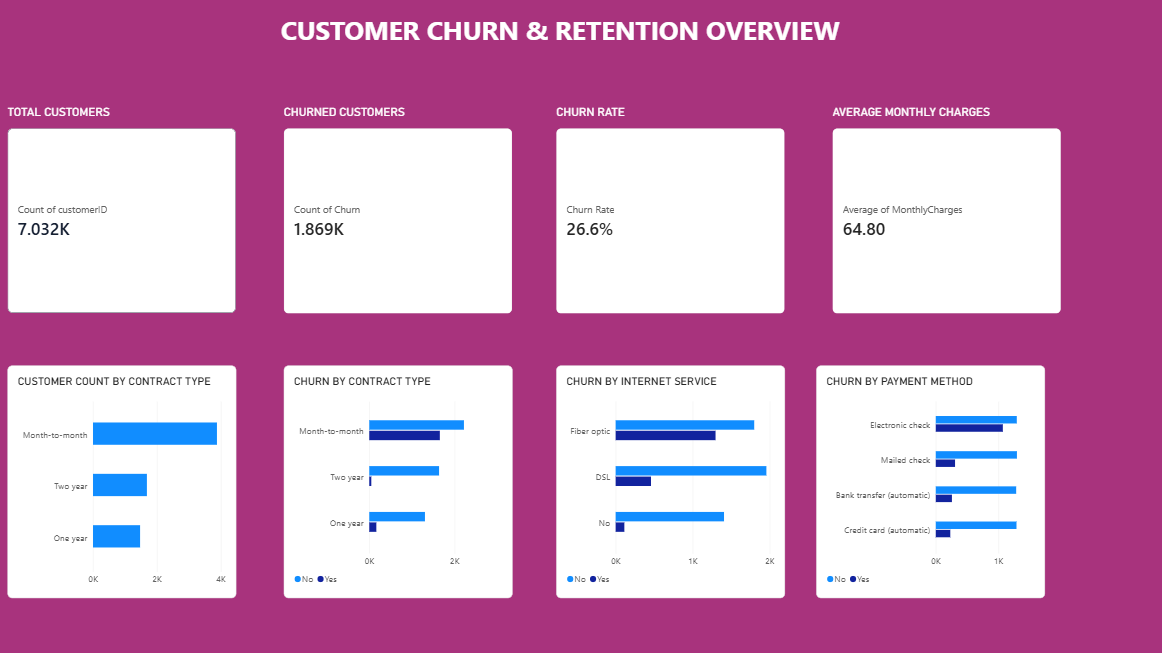

The dashboard page shown, as its layout file describes it:
{"tool":"powerbi","page":{"name":"Page 1","canvas":[1920,1080],"ordinal":0},"visuals":[{"type":"cardVisual","title":"TOTAL CUSTOMERS","fields":{"Data":["Count(WA_Fn-UseC_-Telco-Customer-Churn.customerID)"]},"box":[12.3,177,376.4,342.4],"z":0},{"type":"cardVisual","title":"CHURNED CUSTOMERS","fields":{"Data":["CountNonNull(WA_Fn-UseC_-Telco-Customer-Churn.Churn)"]},"box":[466.7,176.7,376.7,343.3],"z":1000},{"type":"cardVisual","title":"CHURN RATE","fields":{"Data":["WA_Fn-UseC_-Telco-Customer-Churn.Churn Rate"]},"box":[916.7,176.7,376.7,343.3],"z":2000},{"type":"cardVisual","title":"AVERAGE MONTHLY CHARGES","fields":{"Data":["Avg(WA_Fn-UseC_-Telco-Customer-Churn.MonthlyCharges)"]},"box":[1370,176.7,376.7,343.3],"z":3000},{"type":"clusteredBarChart","title":"CUSTOMER COUNT BY CONTRACT TYPE","fields":{"Category":["WA_Fn-UseC_-Telco-Customer-Churn.Contract"],"Y":["CountNonNull(WA_Fn-UseC_-Telco-Customer-Churn.Churn)"]},"box":[12.3,605.1,376.7,382.8],"z":4000},{"type":"clusteredBarChart","title":"CHURN BY CONTRACT TYPE","fields":{"Category":["WA_Fn-UseC_-Telco-Customer-Churn.Contract"],"Series":["WA_Fn-UseC_-Telco-Customer-Churn.Churn"],"Y":["CountNonNull(WA_Fn-UseC_-Telco-Customer-Churn.customerID)"]},"box":[467.2,605.1,376.7,382.8],"z":5000},{"type":"clusteredBarChart","title":"CHURN BY INTERNET SERVICE","fields":{"Category":["WA_Fn-UseC_-Telco-Customer-Churn.InternetService"],"Series":["WA_Fn-UseC_-Telco-Customer-Churn.Churn"],"Y":["CountNonNull(WA_Fn-UseC_-Telco-Customer-Churn.customerID)"]},"box":[916,605.1,376.7,382.8],"z":6000},{"type":"clusteredBarChart","title":"CHURN BY PAYMENT METHOD","fields":{"Category":["WA_Fn-UseC_-Telco-Customer-Churn.PaymentMethod"],"Series":["WA_Fn-UseC_-Telco-Customer-Churn.Churn"],"Y":["CountNonNull(WA_Fn-UseC_-Telco-Customer-Churn.customerID)"]},"box":[1344.1,605.1,376.7,382.8],"z":7000},{"type":"textbox","box":[13.3,23.3,1820,73.3],"z":8000}]}

Visuals, with their boxes in screenshot pixels (x1, y1, x2, y2), scaled from the page's 1920x1080 canvas onto the 1162x653 screenshot:
"TOTAL CUSTOMERS" cardVisual: left=7, top=107, right=235, bottom=314
"CHURNED CUSTOMERS" cardVisual: left=282, top=107, right=510, bottom=314
"CHURN RATE" cardVisual: left=555, top=107, right=783, bottom=314
"AVERAGE MONTHLY CHARGES" cardVisual: left=829, top=107, right=1057, bottom=314
"CUSTOMER COUNT BY CONTRACT TYPE" clusteredBarChart: left=7, top=366, right=235, bottom=597
"CHURN BY CONTRACT TYPE" clusteredBarChart: left=283, top=366, right=511, bottom=597
"CHURN BY INTERNET SERVICE" clusteredBarChart: left=554, top=366, right=782, bottom=597
"CHURN BY PAYMENT METHOD" clusteredBarChart: left=813, top=366, right=1041, bottom=597
textbox: left=8, top=14, right=1110, bottom=58
